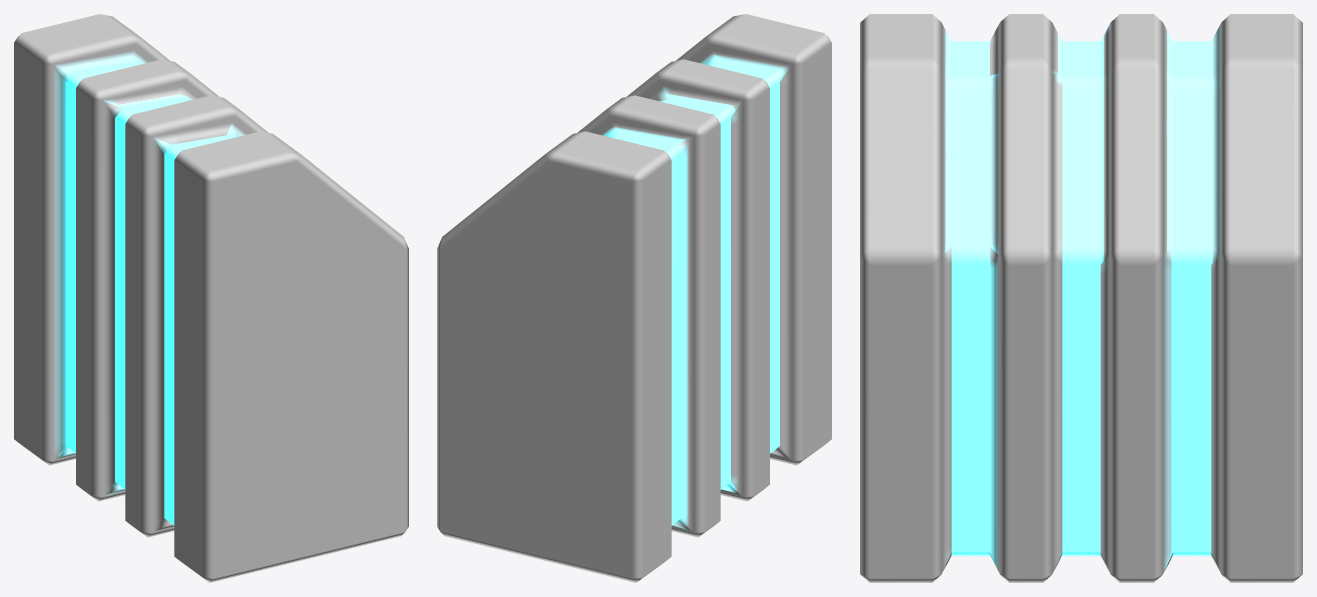
File: SM_3DT_Wall_Prop_03.fbx
3 views of the same model, side by side, from view 1: azimuth 30°, elevation 25°; view 2: azimuth 150°, elevation 25°; view 3: azimuth 270°, elevation 25° (orthographic). The views are drawn at different scales.
Parts seen in each view (by area): view 1: SM_3DT_Wall_Prop_03; view 2: SM_3DT_Wall_Prop_03; view 3: SM_3DT_Wall_Prop_03.
Part boxes in pixels (x1=…): SM_3DT_Wall_Prop_03: x1=14, y1=14, x2=408, y2=582; SM_3DT_Wall_Prop_03: x1=437, y1=14, x2=831, y2=582; SM_3DT_Wall_Prop_03: x1=860, y1=14, x2=1302, y2=582.
Bounding box in the file's own units: 15.36 × 29.27 × 25.33.
